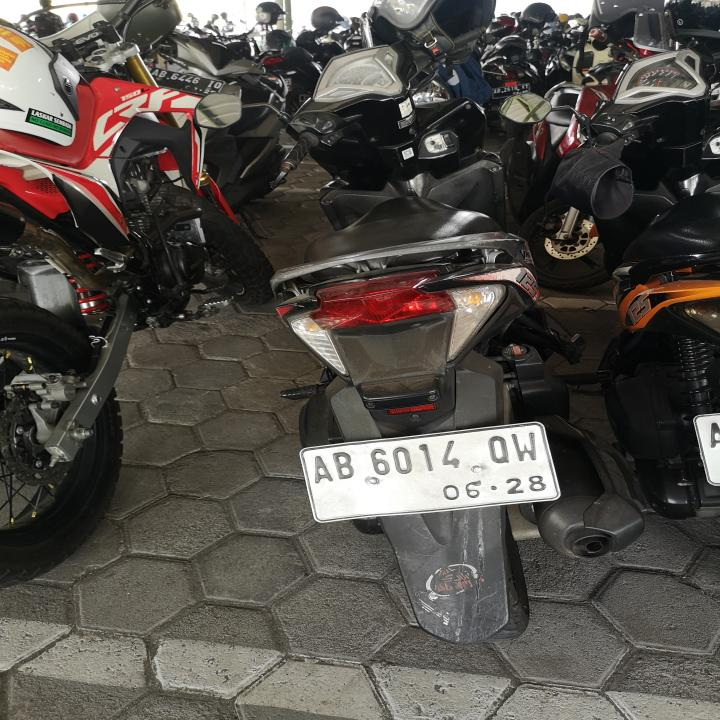plate: (294, 419, 567, 525)
